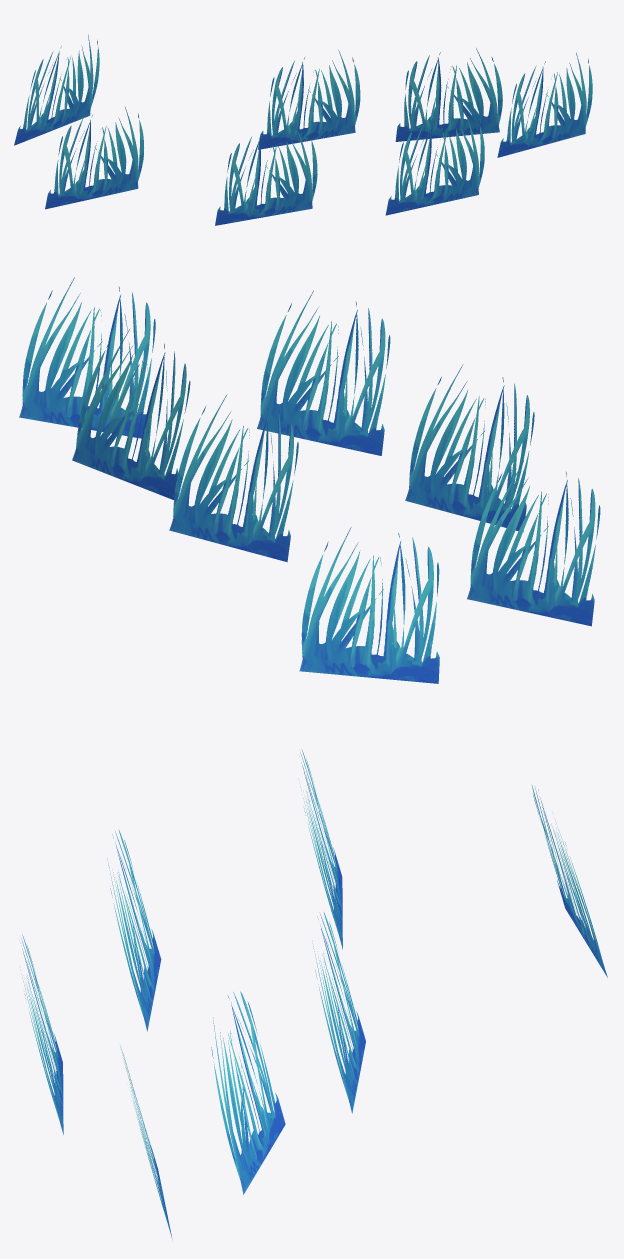
The model's file is M_HerbeGroupe1.FBX.
The picture shows the model from 3 angles, top to bottom: view 1: azimuth 30°, elevation 25°; view 2: azimuth 150°, elevation 25°; view 3: azimuth 270°, elevation 25°; orthographic projection. The views are drawn at different scales.
Visible parts, largest first — view 1: Object491; view 2: Object491; view 3: Object491.
Part boxes in pixels (<box>): Object491: <box>14,34,592,225</box>; Object491: <box>19,277,600,683</box>; Object491: <box>21,750,607,1238</box>.
Size of the model in its own units: 414 by 89.26 by 283.
